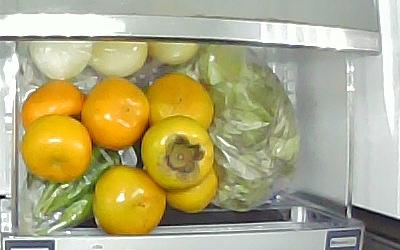persimmon: (141, 116, 214, 191), (93, 164, 167, 235), (81, 77, 149, 151), (22, 115, 93, 184), (146, 73, 213, 132), (22, 79, 84, 132), (165, 168, 220, 214)
